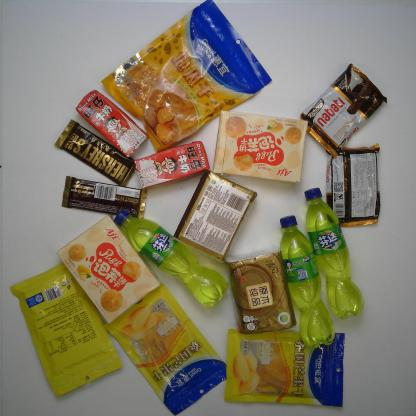Chocolate: (53, 118, 138, 187), (60, 175, 148, 220)
Dessert: (55, 213, 161, 325), (298, 62, 388, 160), (212, 109, 309, 184), (323, 143, 382, 228)
Dried Fruit: (100, 4, 274, 153), (102, 281, 226, 416), (9, 262, 124, 398), (223, 328, 346, 409)
Drink: (112, 206, 230, 308), (303, 186, 365, 320), (278, 214, 336, 349)
Milk: (75, 89, 149, 158), (134, 140, 210, 189)
Tissue: (172, 169, 258, 263), (224, 246, 297, 335)
